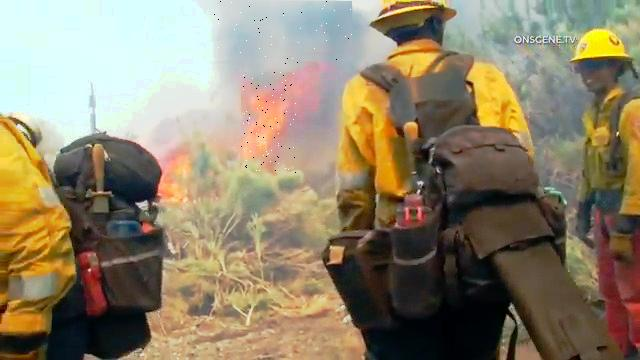fire: (242, 72, 297, 173)
smoke: (207, 2, 355, 65)
